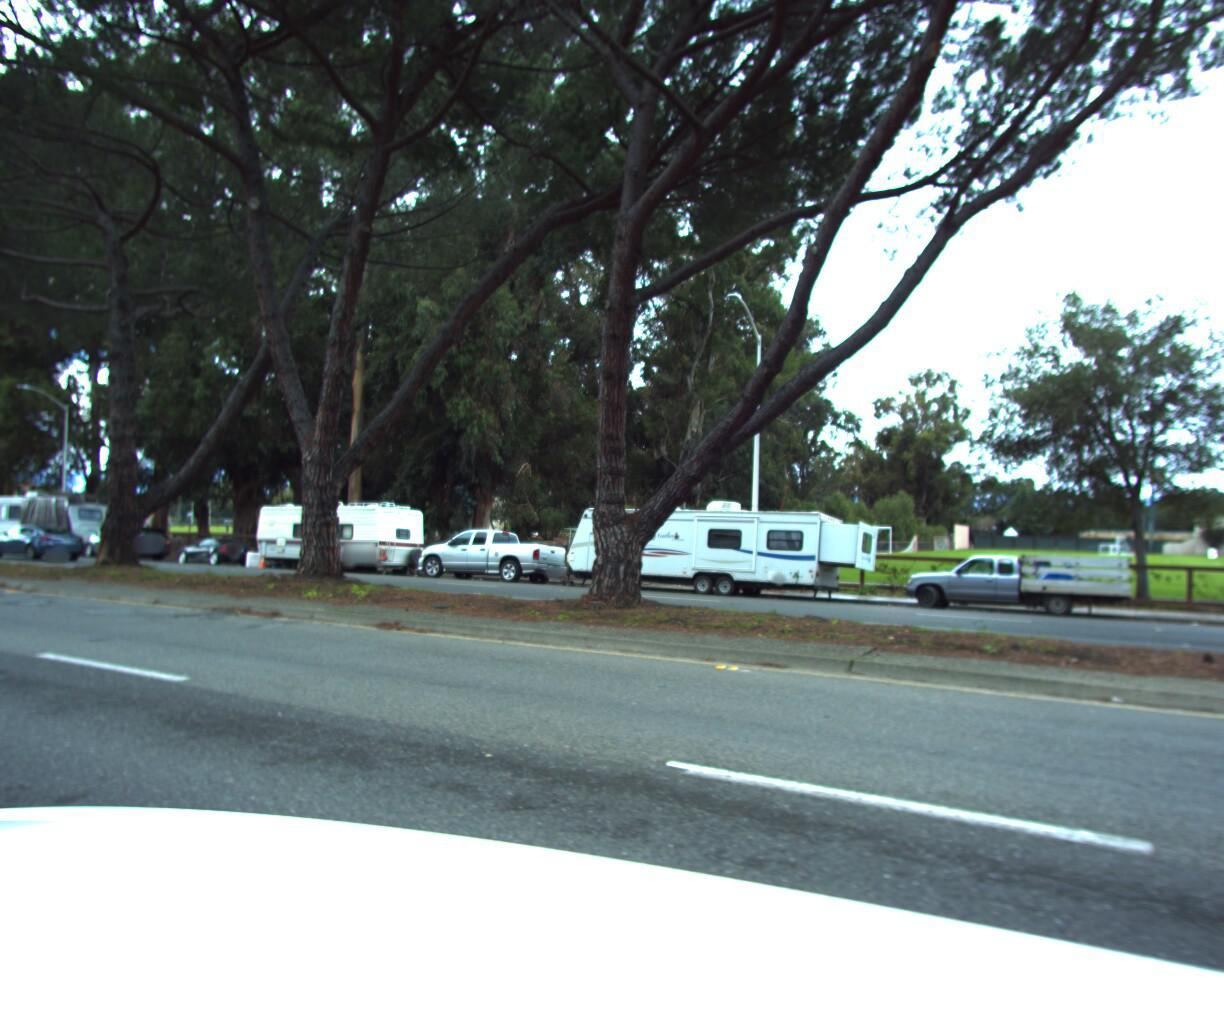car: (895, 542, 1137, 624), (402, 520, 566, 585), (74, 517, 173, 558), (0, 519, 85, 558), (167, 530, 257, 564), (0, 520, 4, 548)
other_vehicle: (552, 489, 888, 600), (227, 495, 432, 574), (0, 484, 122, 557)
